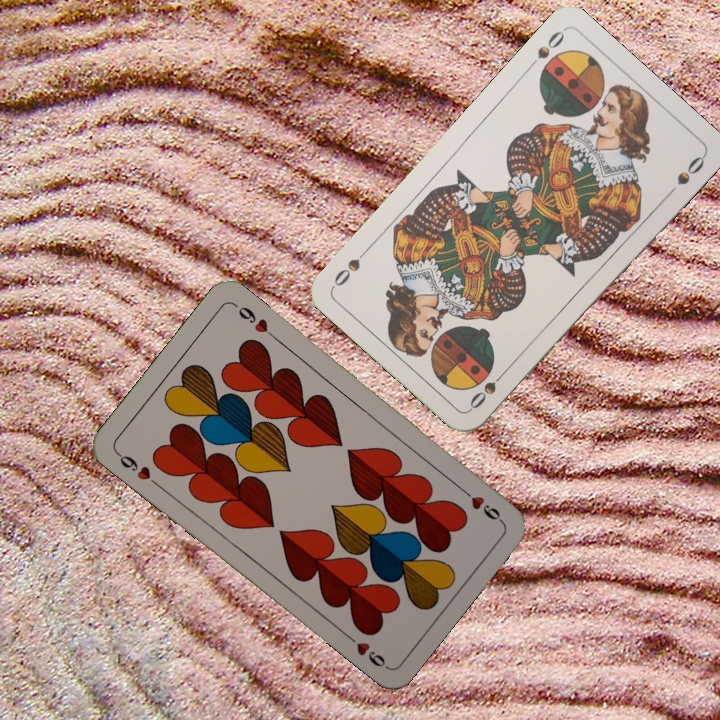H9: (112, 448, 162, 490), (455, 482, 505, 524)
SO: (465, 364, 511, 412), (522, 26, 568, 73)
